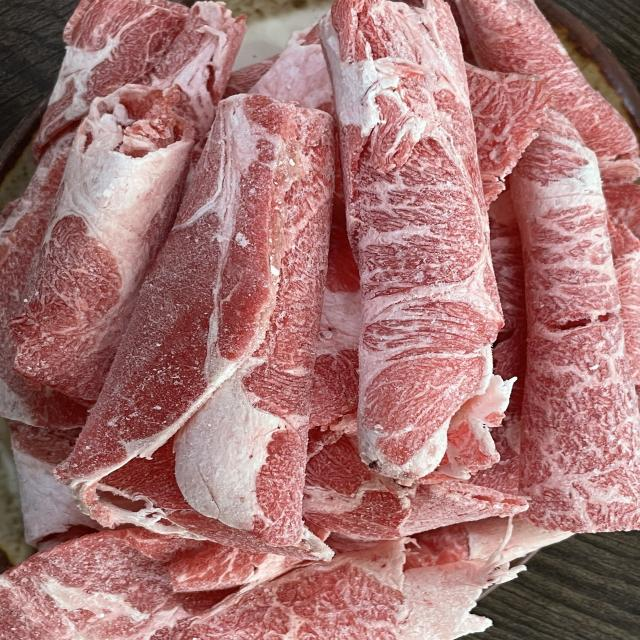beef: (73, 76, 617, 554)
